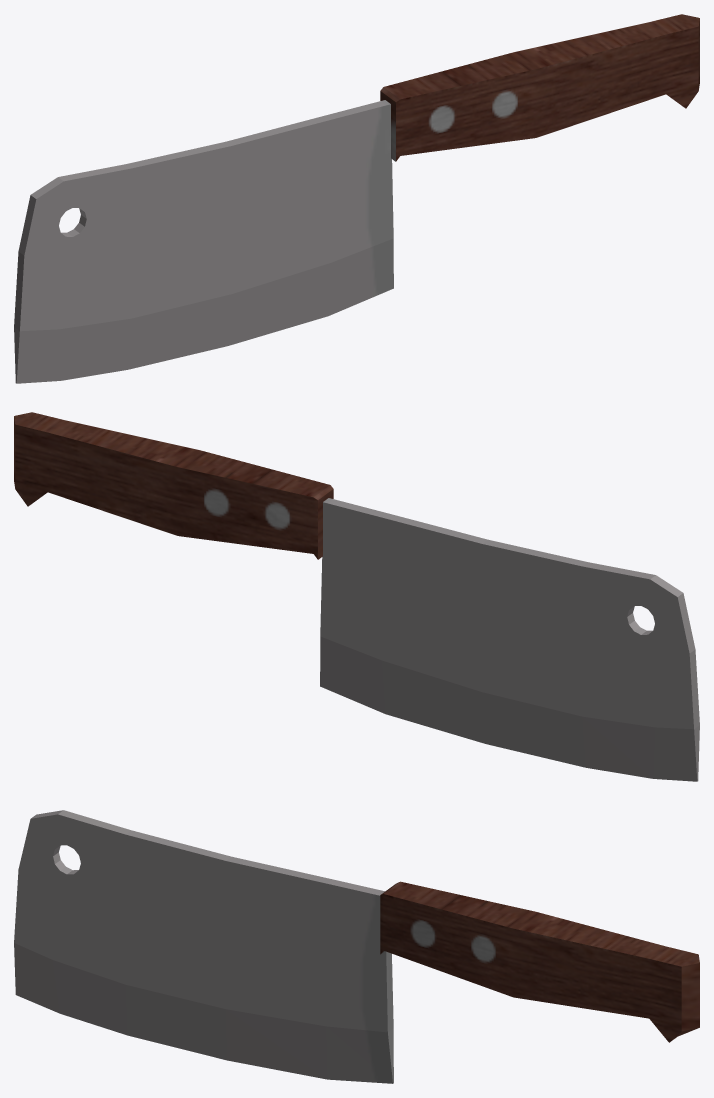
Rendered from Cuchillo_Carnicero.obj.
The picture shows the model from 3 angles, top to bottom: view 1: azimuth 30°, elevation 25°; view 2: azimuth 150°, elevation 25°; view 3: azimuth 330°, elevation 25°; orthographic projection.
Visible parts, largest first — view 1: Carnicero_Cube.008; view 2: Carnicero_Cube.008; view 3: Carnicero_Cube.008.
Boxes of the visible parts, x1=… form: Carnicero_Cube.008: x1=14, y1=14, x2=699, y2=383; Carnicero_Cube.008: x1=14, y1=412, x2=699, y2=781; Carnicero_Cube.008: x1=14, y1=810, x2=699, y2=1083.
Bounding box in the file's own units: 1.32 × 0.3922 × 0.0767.
